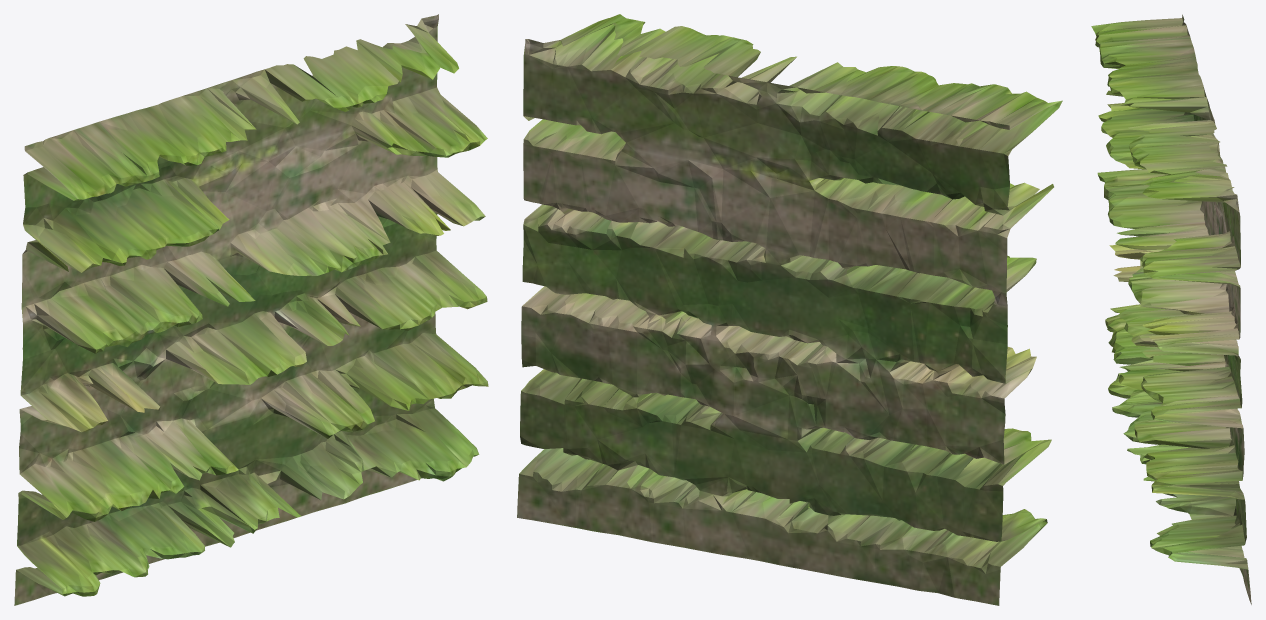
File: map_90_20.obj
3 views of the same model, side by side, from view 1: azimuth 30°, elevation 25°; view 2: azimuth 150°, elevation 25°; view 3: azimuth 270°, elevation 25° (orthographic). The views are drawn at different scales.
Parts seen in each view (by area): view 1: grp1; view 2: grp1; view 3: grp1.
Part boxes in pixels (bbox=[...]): grp1: bbox=[14, 14, 488, 605]; grp1: bbox=[517, 14, 1062, 605]; grp1: bbox=[1091, 14, 1251, 604].
Bounding box in the file's own units: 10 × 10 × 3.6.
Materials: 1 (1 with a texture image).
